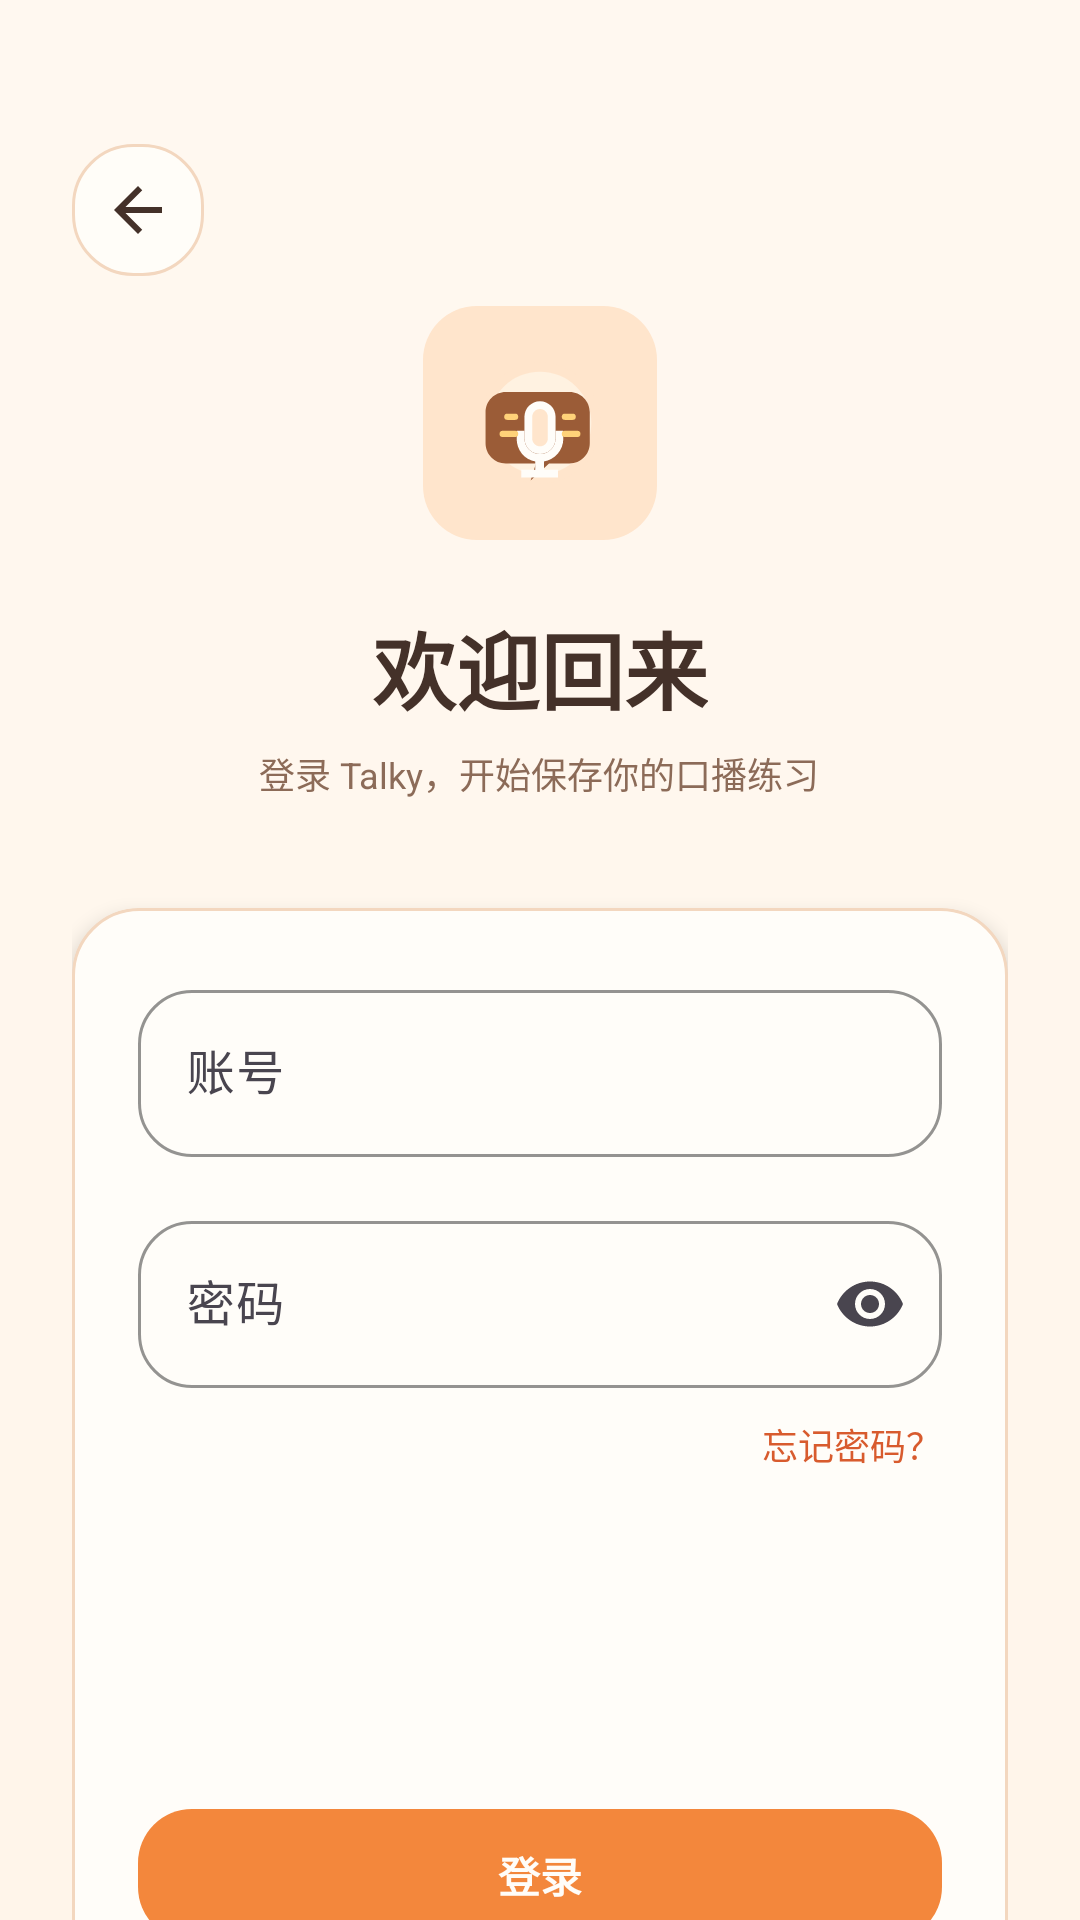

Icons on this 1080 × 1920 Android screen, each with the point to tap as (x=x, y=y):
返回: (x=138, y=210)
